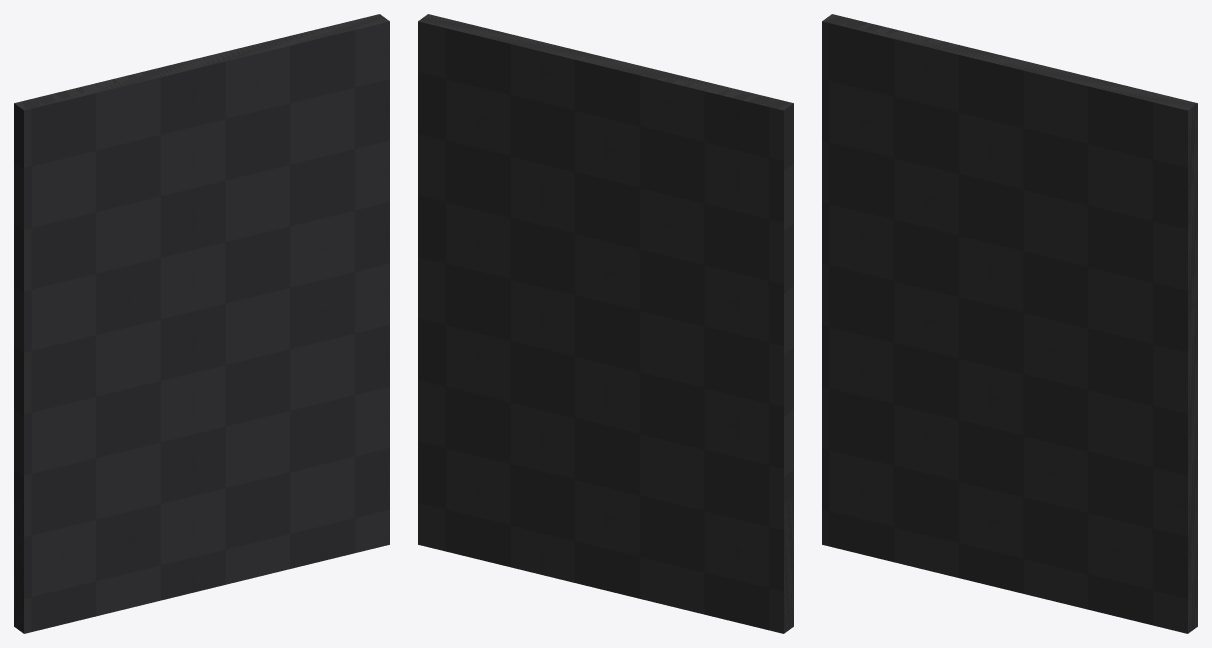
File: door.glb
3 views of the same model, side by side, from view 1: azimuth 30°, elevation 25°; view 2: azimuth 150°, elevation 25°; view 3: azimuth 330°, elevation 25° (orthographic).
Parts seen in each view (by area): view 1: Door; view 2: Door; view 3: Door.
Boxes of the visible parts, <box> form: Door: <box>14,14,389,633</box>; Door: <box>418,14,793,633</box>; Door: <box>822,14,1197,633</box>.
Size of what is drawn, in the model's own units: 2.51 by 3.43 by 0.12.
Materials: 1 (1 with a texture image).
